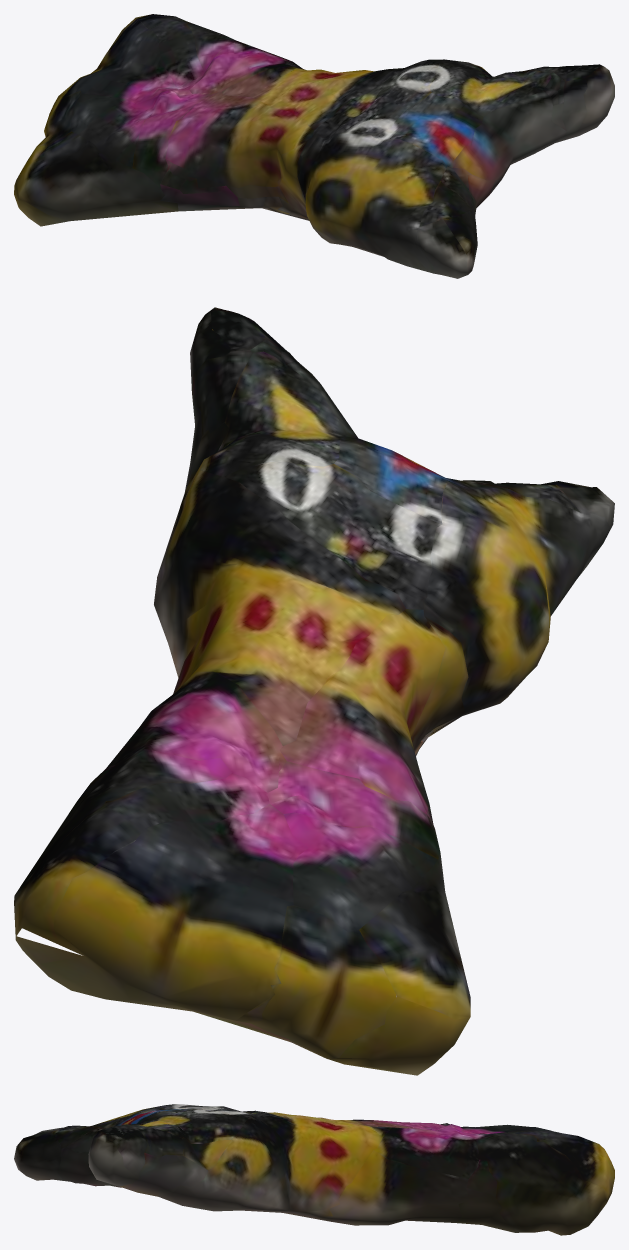
The model's file is hall.glb.
The picture shows the model from 3 angles, top to bottom: view 1: azimuth 30°, elevation 25°; view 2: azimuth 150°, elevation 25°; view 3: azimuth 270°, elevation 25°; orthographic projection. The views are drawn at different scales.
Bounding box in the file's own units: 0.5381 × 0.3187 × 0.8166.
1 material, 1 textured.
